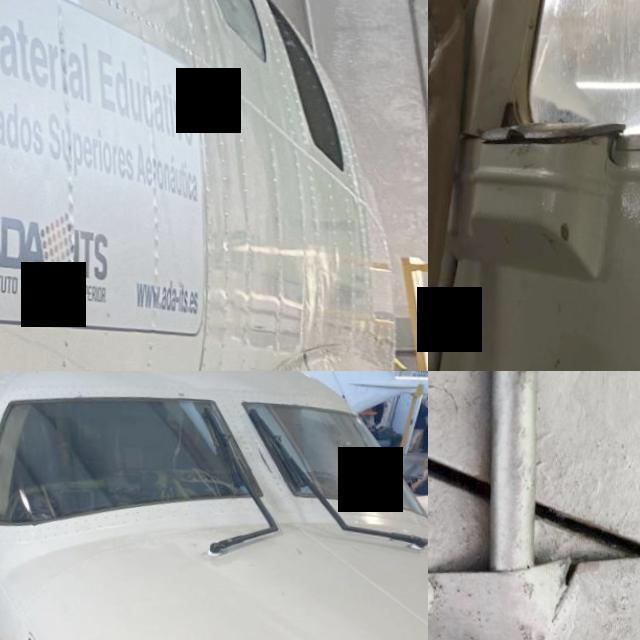Crack: (544, 537, 606, 616), (494, 213, 580, 260), (605, 123, 632, 214)
